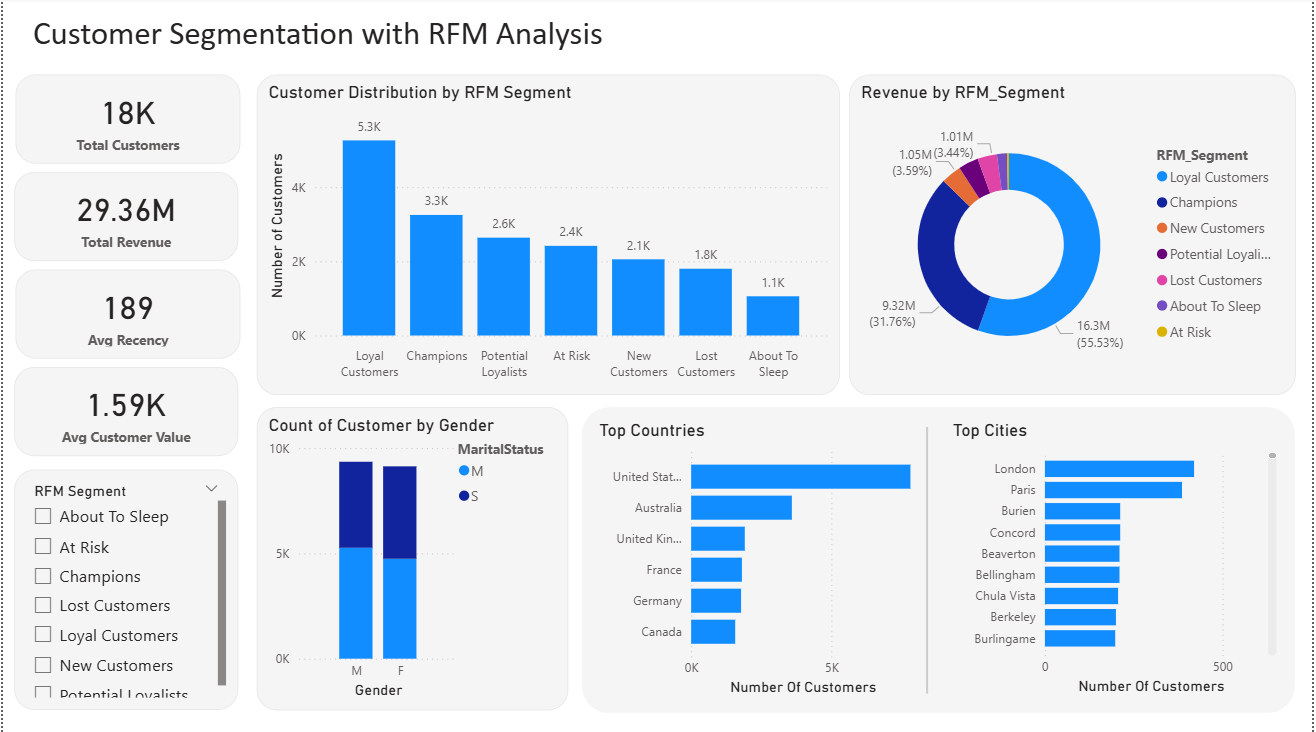

Layout of this report page (visuals, bound fields, positions):
{"tool":"powerbi","page":{"name":"Page 1","canvas":[1280,720],"ordinal":0},"visuals":[{"type":"card","fields":{"Values":["RFM.Total Revenue"]},"box":[11.5,171.6,218.9,87.1],"z":0},{"type":"card","fields":{"Values":["RFM.Avg Customer Value"]},"box":[11.5,362.3,218.9,87.1],"z":1000},{"type":"card","fields":{"Values":["RFM.Avg Recency"]},"box":[12.8,266.3,220.2,87.1],"z":2000},{"type":"card","fields":{"Values":["RFM.Total Customers"]},"box":[12.8,75.5,220.2,87.1],"z":3000},{"type":"lineStackedColumnComboChart","title":"Customer Distribution by RFM Segment","fields":{"Category":["RFM.RFM_Segment"],"Y":["CountNonNull(RFM.CustomerID)"]},"box":[248.5,75.9,570.4,313.3],"z":4000},{"type":"donutChart","title":"Revenue by RFM_Segment","fields":{"Category":["RFM.RFM_Segment"],"Y":["Sum(RFM.Monetary)"]},"box":[828.3,75.5,436.6,313.7],"z":5000},{"type":"slicer","fields":{"Values":["RFM.RFM_Segment"]},"box":[11.5,462.2,218.9,235.6],"z":6000},{"type":"columnChart","title":"Count of Customer by Gender","fields":{"Category":["DimCustomer.Gender"],"Series":["DimCustomer.MaritalStatus"],"Y":["CountNonNull(RFM.CustomerID)"]},"box":[248.4,400.7,304.7,297],"z":7000},{"type":"shape","box":[565.9,400.7,697.7,299.6],"z":8000},{"type":"clusteredBarChart","title":"Top Countries","fields":{"Category":["DimGeography.EnglishCountryRegionName"],"Y":["CountNonNull(RFM.CustomerID)"]},"box":[578.7,413.5,326.5,275.3],"z":9000},{"type":"barChart","title":"Top Cities","fields":{"Category":["DimGeography.City"],"Y":["CountNonNull(RFM.CustomerID)"]},"box":[924.3,413.5,326.5,274],"z":10000},{"type":"shape","box":[883.4,421.2,42.2,261.2],"z":11000},{"type":"textbox","box":[24.3,11.5,603,55.1],"z":12000}]}

Visuals, with their boxes in screenshot pixels (x1, y1, x2, y2), scaled from the page's 1280x720 canvas onto the 1316x732 screenshot:
card - RFM.Total Revenue: <box>12,174,237,263</box>
card - RFM.Avg Customer Value: <box>12,368,237,457</box>
card - RFM.Avg Recency: <box>13,271,240,359</box>
card - RFM.Total Customers: <box>13,77,240,165</box>
"Customer Distribution by RFM Segment" lineStackedColumnComboChart: <box>255,77,842,396</box>
"Revenue by RFM_Segment" donutChart: <box>852,77,1300,396</box>
slicer - RFM.RFM_Segment: <box>12,470,237,709</box>
"Count of Customer by Gender" columnChart: <box>255,407,569,709</box>
shape: <box>582,407,1299,712</box>
"Top Countries" clusteredBarChart: <box>595,420,931,700</box>
"Top Cities" barChart: <box>950,420,1286,699</box>
shape: <box>908,428,952,694</box>
textbox: <box>25,12,645,68</box>
